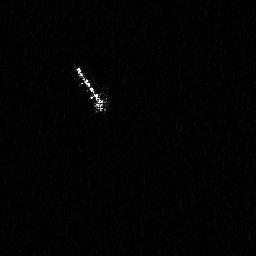ship: (74, 66, 108, 114)
